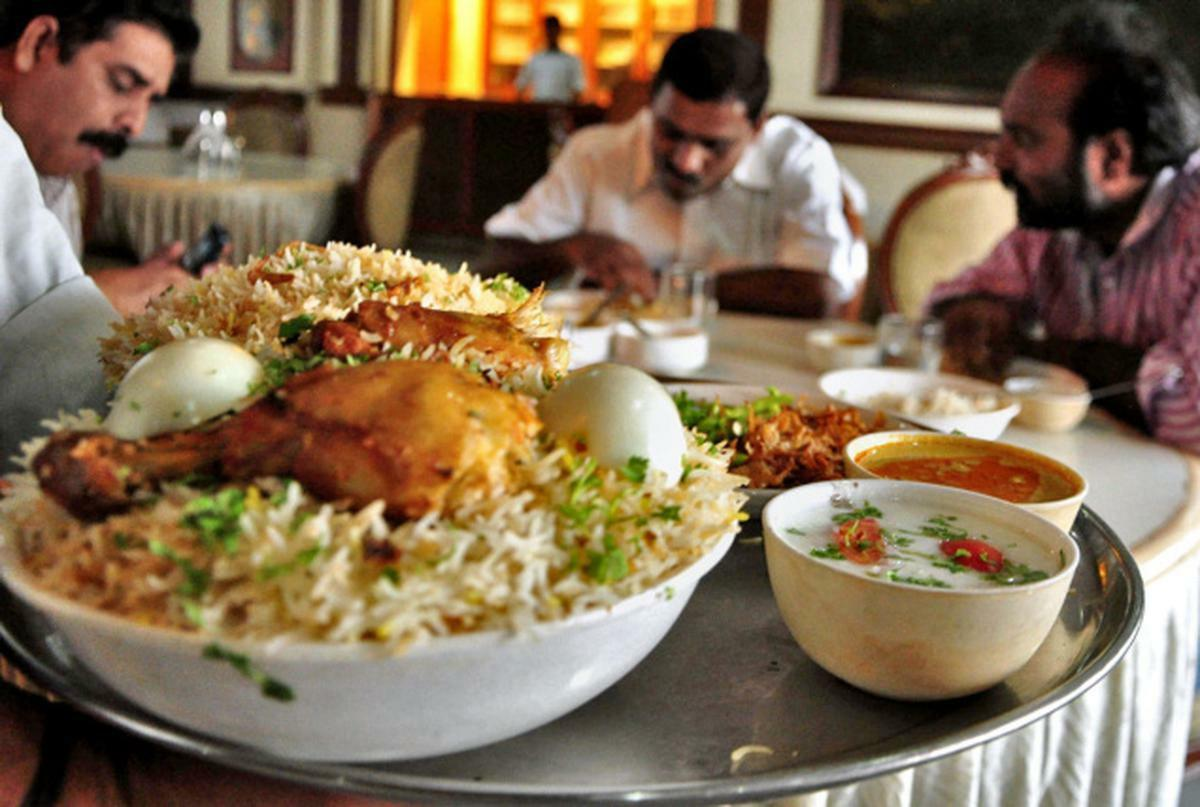Biryani: (2, 352, 741, 642)
